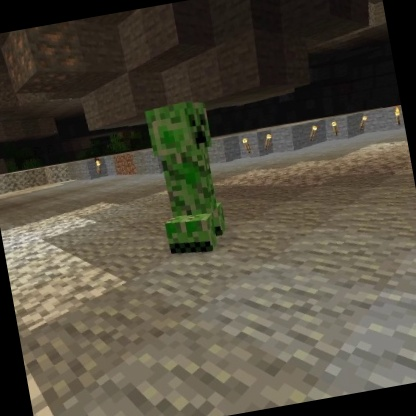creeper: (139, 94, 235, 263)
